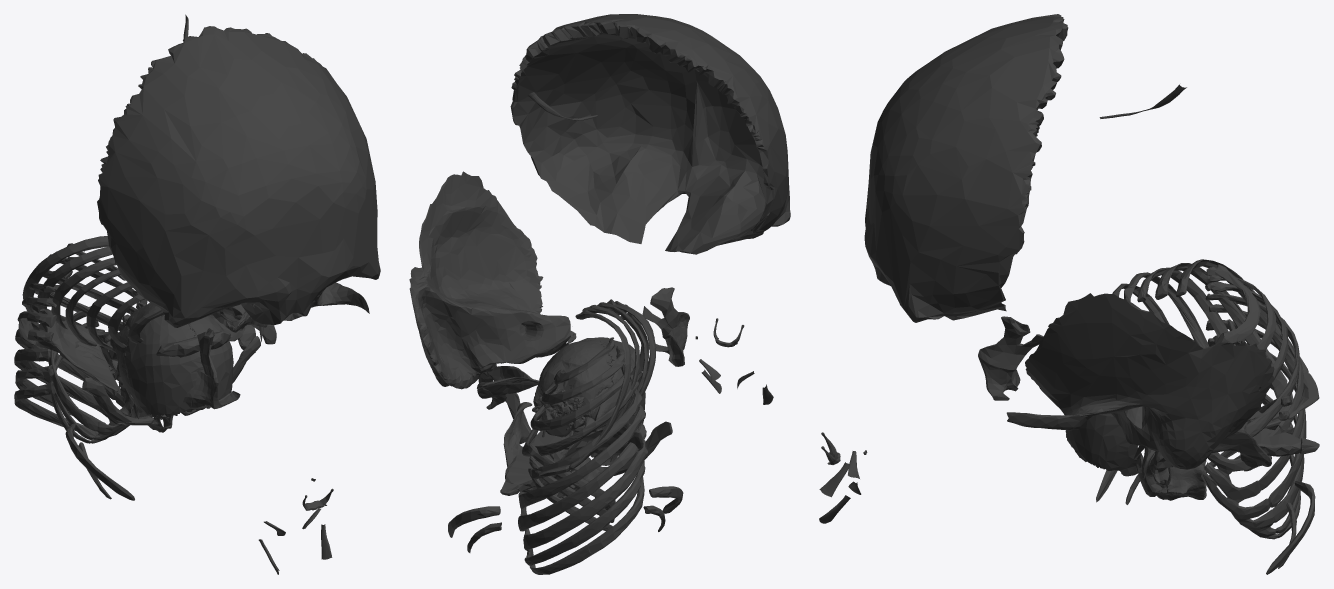
The model's file is sharedassets19.glb.
The picture shows the model from 3 angles, left to right: view 1: azimuth 30°, elevation 25°; view 2: azimuth 150°, elevation 25°; view 3: azimuth 270°, elevation 25°; orthographic projection. The views are drawn at different scales.
Parts seen in each view (by area): view 1: 0079_Frontal__001097, 0067_Parietal, R__001095, 0002_Scapula, R__000991, 0141_Palatine, R__001081, 0021_Eighth rib _08_, L__002292, 0068_Parietal, L__001094, 0018_Seventh rib _07_, R__002279, 0009_Eighth rib _08_, R__002280, 0080_Temporal, L__001110, 0023_Tenth rib _10_, L__002294, 0030_Seventh rib _07_, L__002291, 0003_Clavicle, R__000992 (+16 smaller); view 2: 0079_Frontal__001097, 0080_Temporal, L__001110, 0069_Occipital__001132, 0021_Eighth rib _08_, L__002292, 0141_Palatine, R__001081, 0030_Seventh rib _07_, L__002291, 0022_Ninth rib _09_, L__002293, 0029_Sixth rib _06_, L__002290, 0023_Tenth rib _10_, L__002294, 0000_Scapula, L__000982, 0018_Seventh rib _07_, R__002279, 0026_Third rib _03_, L__002287 (+14 smaller); view 3: 0079_Frontal__001097, 0080_Temporal, L__001110, 0068_Parietal, L__001094, 0141_Palatine, R__001081, 0030_Seventh rib _07_, L__002291, 0018_Seventh rib _07_, R__002279, 0017_Sixth rib _06_, R__002278, 0029_Sixth rib _06_, L__002290, 0027_Fourth rib _04_, L__002288, 0024_First rib _01_, L__002285, 0028_Fifth rib _05_, L__002289, 0123_Maxilla, L_ body_001063_004 (+8 smaller).
Boxes of the visible parts, x1,y1,x2,y2 form: 0079_Frontal__001097: [97, 26, 380, 327]; 0067_Parietal, R__001095: [124, 315, 207, 416]; 0002_Scapula, R__000991: [18, 308, 118, 391]; 0141_Palatine, R__001081: [183, 328, 240, 409]; 0021_Eighth rib _08_, L__002292: [14, 348, 130, 430]; 0068_Parietal, L__001094: [189, 315, 233, 408]; 0018_Seventh rib _07_, R__002279: [22, 236, 109, 335]; 0009_Eighth rib _08_, R__002280: [48, 306, 125, 435]; 0080_Temporal, L__001110: [222, 282, 369, 341]; 0023_Tenth rib _10_, L__002294: [14, 381, 115, 436]; 0030_Seventh rib _07_, L__002291: [15, 329, 124, 407]; 0003_Clavicle, R__000992: [82, 377, 154, 425]; 0079_Frontal__001097: [510, 14, 790, 254]; 0080_Temporal, L__001110: [409, 171, 576, 389]; 0069_Occipital__001132: [533, 339, 614, 419]; 0021_Eighth rib _08_, L__002292: [523, 440, 647, 551]; 0141_Palatine, R__001081: [642, 287, 689, 366]; 0030_Seventh rib _07_, L__002291: [518, 423, 646, 531]; 0022_Ninth rib _09_, L__002293: [524, 460, 645, 565]; 0029_Sixth rib _06_, L__002290: [518, 405, 645, 508]; 0023_Tenth rib _10_, L__002294: [529, 477, 644, 574]; 0000_Scapula, L__000982: [477, 366, 539, 409]; 0018_Seventh rib _07_, R__002279: [535, 310, 631, 476]; 0026_Third rib _03_, L__002287: [530, 360, 633, 430]; 0079_Frontal__001097: [864, 14, 1068, 322]; 0080_Temporal, L__001110: [1006, 293, 1274, 469]; 0068_Parietal, L__001094: [1066, 413, 1141, 476]; 0141_Palatine, R__001081: [978, 316, 1043, 400]; 0030_Seventh rib _07_, L__002291: [1200, 338, 1306, 522]; 0018_Seventh rib _07_, R__002279: [1176, 259, 1319, 428]; 0017_Sixth rib _06_, R__002278: [1155, 263, 1293, 423]; 0029_Sixth rib _06_, L__002290: [1204, 320, 1304, 502]; 0027_Fourth rib _04_, L__002288: [1205, 293, 1299, 437]; 0024_First rib _01_, L__002285: [1206, 264, 1260, 343]; 0028_Fifth rib _05_, L__002289: [1208, 304, 1303, 474]; 0123_Maxilla, L_ body_001063_004: [1157, 464, 1206, 500].
Size of the model in its own units: 0.1902 by 0.3091 by 0.2699.
Materials: 1 (1 with a texture image).
